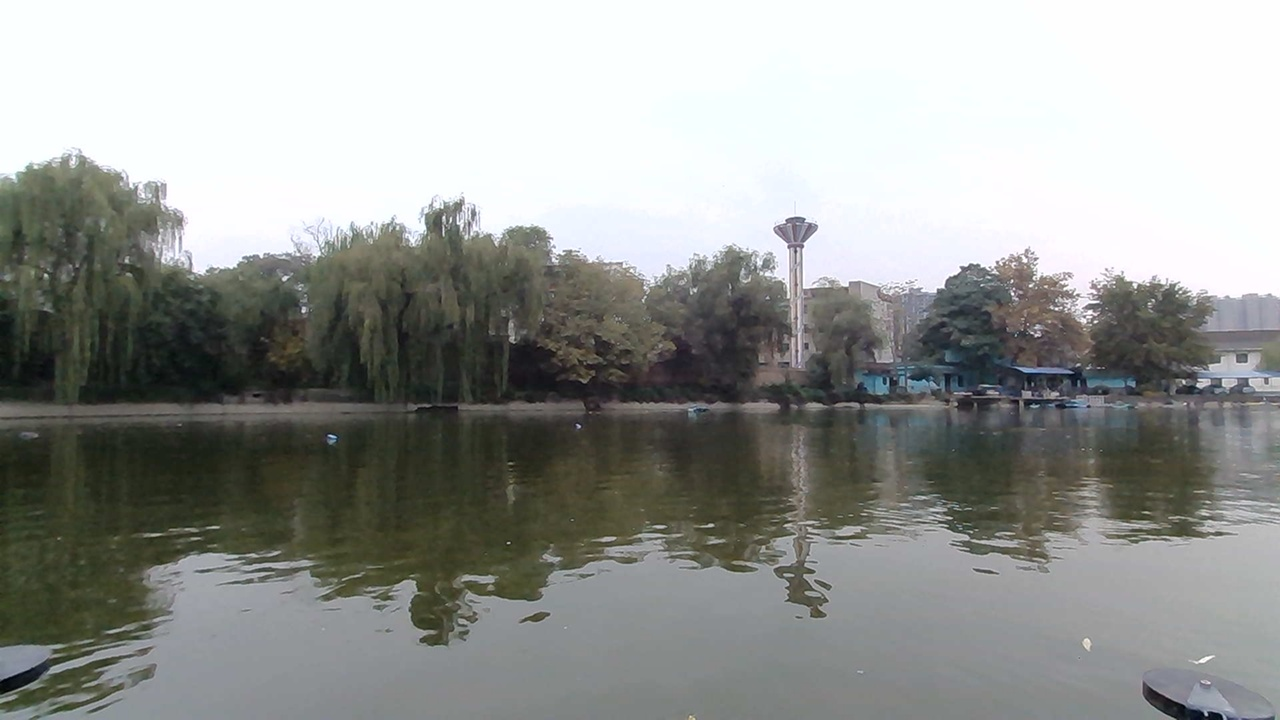bottle: (322, 432, 353, 450)
